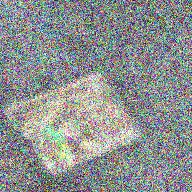러키펜정: (81, 139, 96, 151)
씨엠지세파클러캡슐: (58, 128, 79, 144)
에르도캡슐: (43, 125, 65, 144)
휴티렌정: (57, 143, 70, 162)
